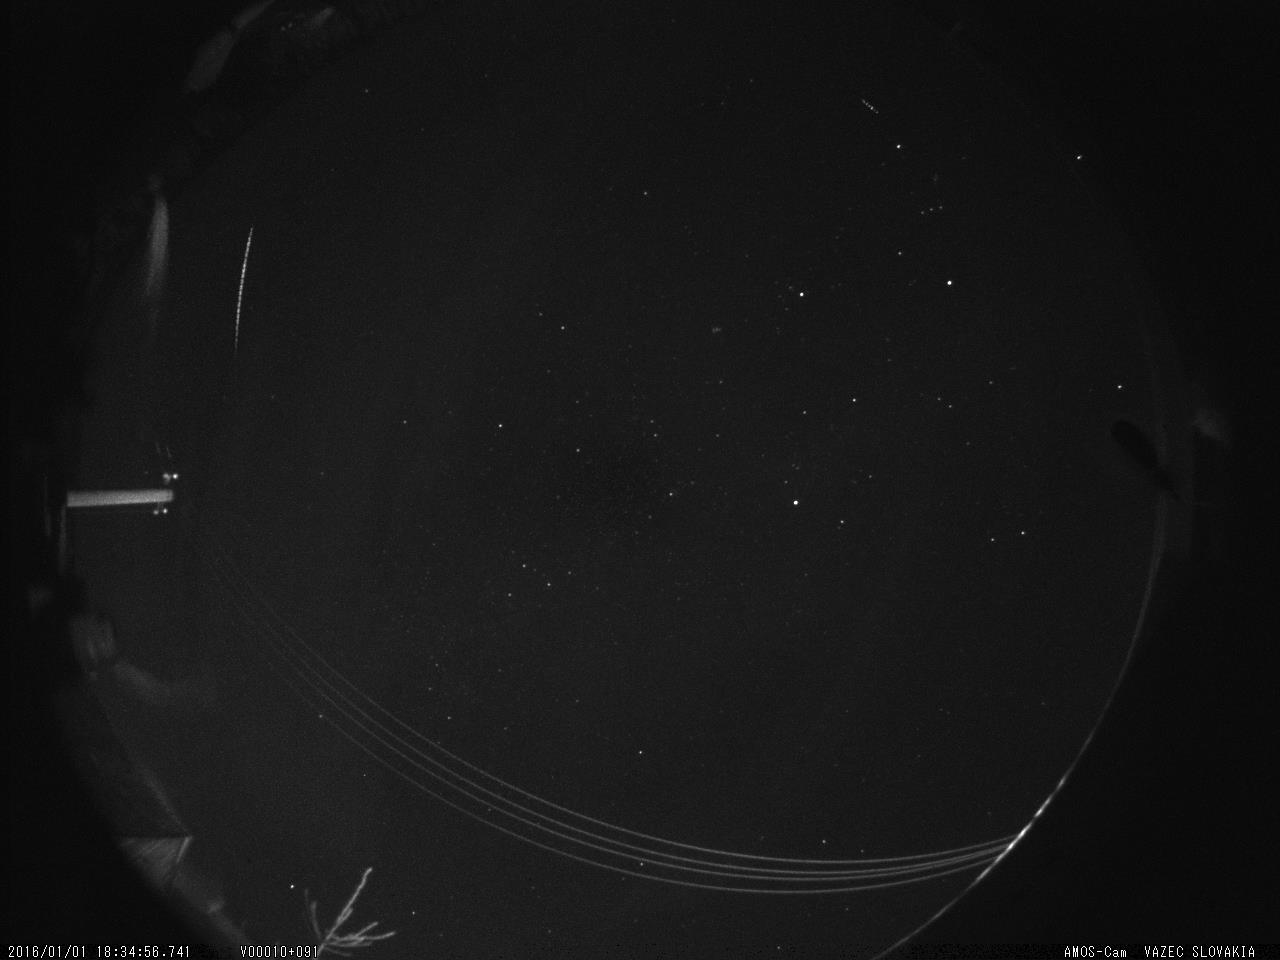meteor: (216, 212, 265, 368)
